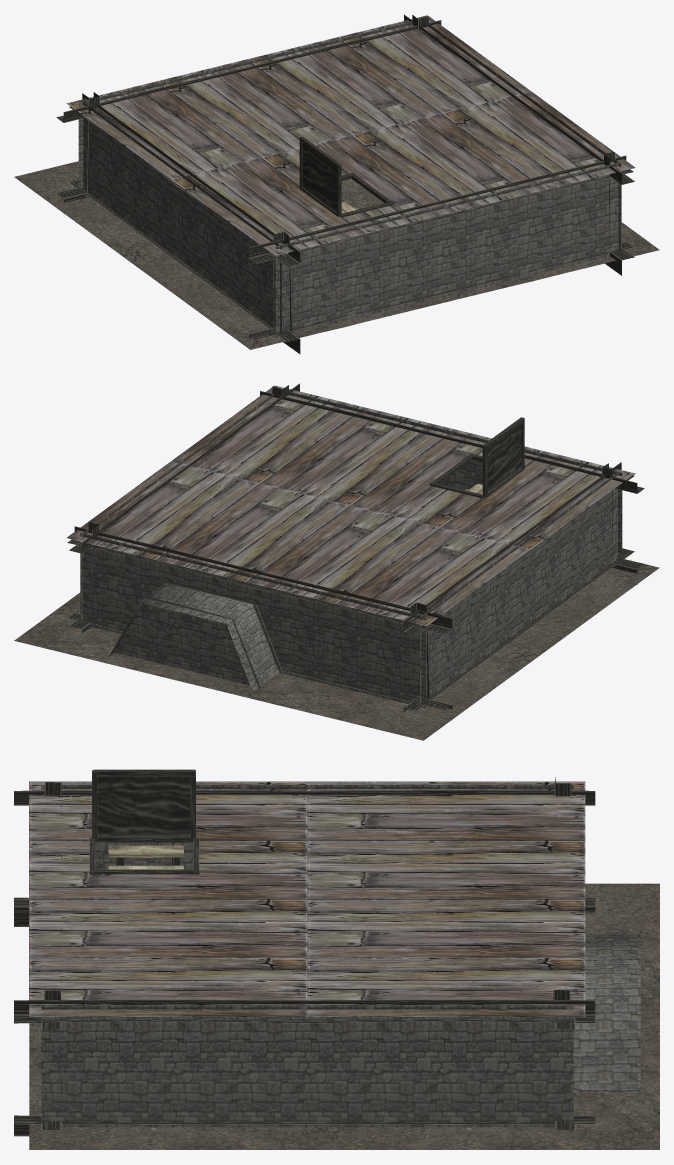
File: interior_shanty_cellar.fbx
3 views of the same model, one above another, from view 1: azimuth 30°, elevation 25°; view 2: azimuth 150°, elevation 25°; view 3: azimuth 270°, elevation 25° (orthographic). The views are drawn at different scales.
Parts seen in each view (by area): view 1: ceiling, wallD, wallA, ground, wood_beams, door, wallB, wallC; view 2: ceiling, wallB, ground, wallA, wood_beams, alcove_back, alcove, door, wallD, wallC; view 3: ceiling, wallC, ground, wood_beams, alcove, door, wallA, stair_treads.
Boxes of the visible parts, box(x1,y1,x2,y2) form: ceiling: box(66, 15, 635, 255); wallD: box(275, 162, 621, 337); wallA: box(82, 101, 281, 333); ground: box(14, 161, 659, 349); wood_beams: box(56, 14, 634, 354); door: box(299, 136, 341, 216); wallB: box(78, 21, 412, 189); wallC: box(421, 18, 620, 250); ceiling: box(67, 385, 635, 625); wallB: box(80, 533, 425, 708); ground: box(14, 559, 659, 740); wallA: box(420, 471, 619, 703); wood_beams: box(67, 383, 644, 711); alcove_back: box(115, 596, 260, 688); alcove: box(109, 583, 278, 691); door: box(482, 417, 524, 497); wallD: box(288, 392, 622, 559); wallC: box(81, 388, 280, 620); ceiling: box(29, 781, 585, 1016); wallC: box(41, 1005, 573, 1127); ground: box(29, 883, 659, 1149); wood_beams: box(14, 777, 595, 1136); alcove: box(573, 934, 640, 1092); door: box(92, 769, 195, 842); wallA: box(41, 785, 573, 869); stair_treads: box(108, 845, 183, 869).
Size of the model in its own units: 6435 by 2281 by 6592.
Materials: 4 (4 with a texture image).
